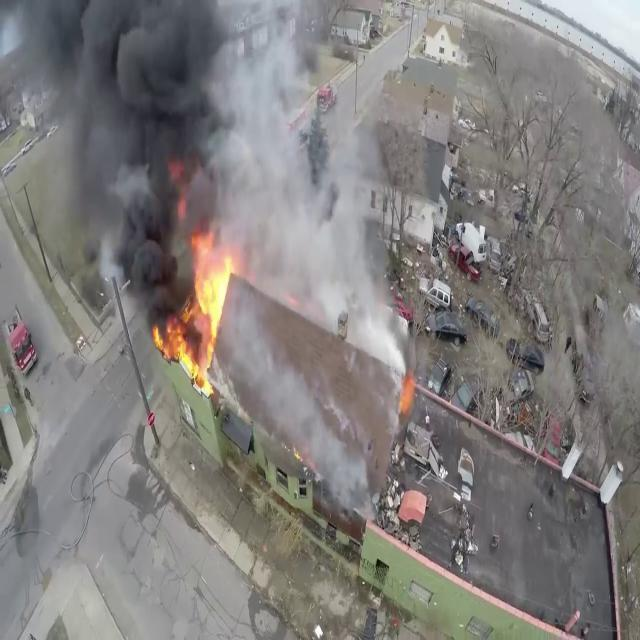Fire: (157, 225, 240, 391), (398, 366, 418, 416)
Smoke: (11, 0, 264, 303), (206, 0, 412, 360)
